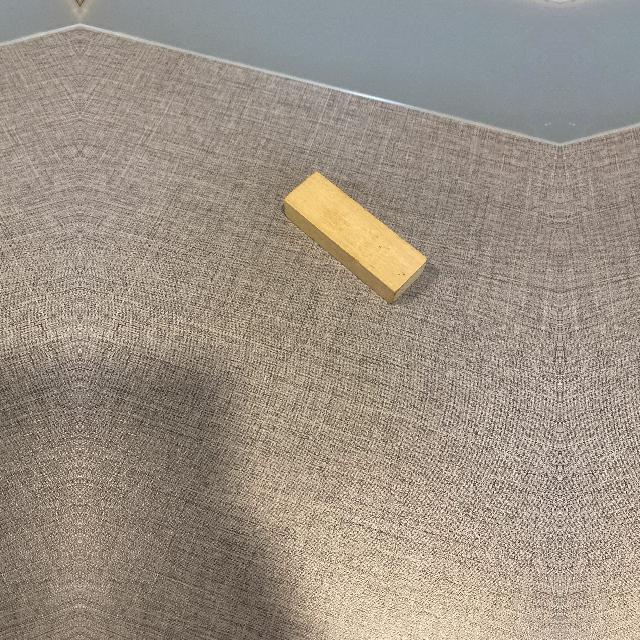jenga: (283, 173, 427, 306)
